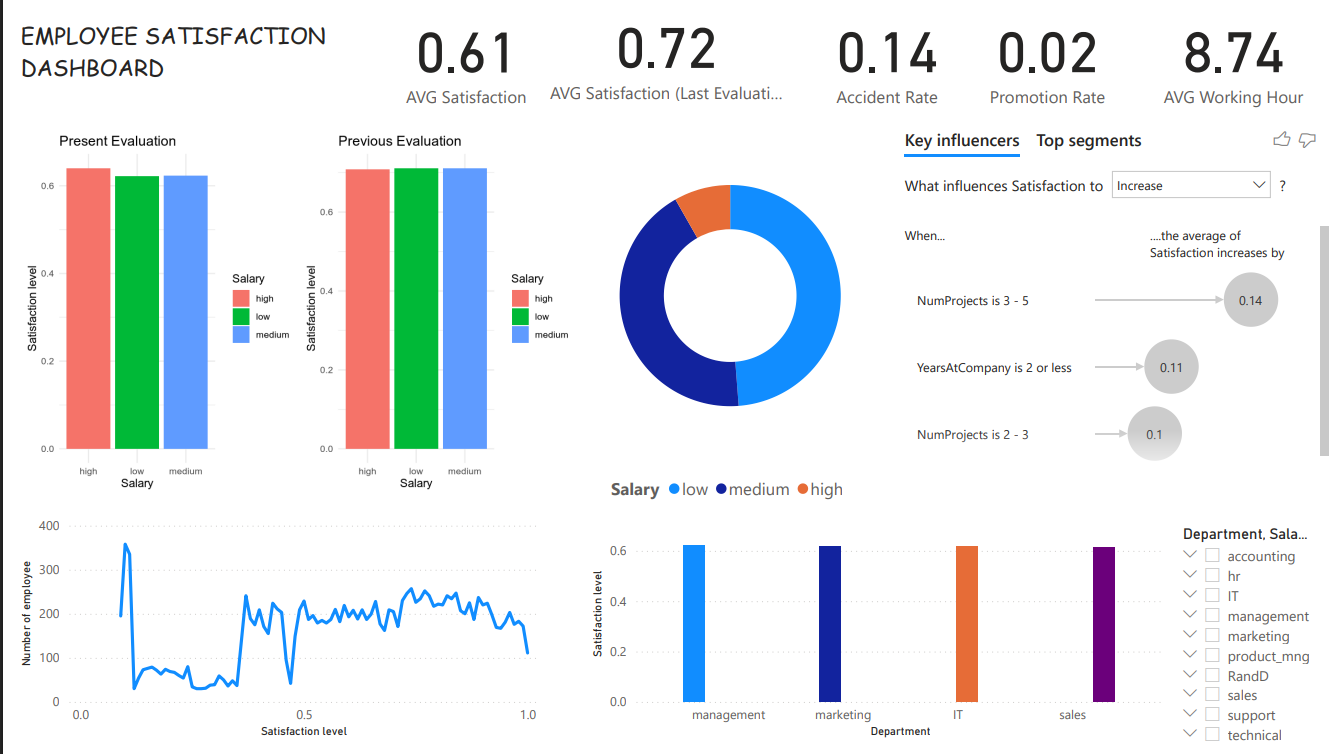

The dashboard page shown, as its layout file describes it:
{"tool":"powerbi","page":{"name":"Page 1","canvas":[1280,720],"ordinal":0},"visuals":[{"type":"keyDriversVisual","fields":{"ExplainBy":["employee_satisfaction_cleaned.Department","Sum(employee_satisfaction_cleaned.PromotedLast5Yrs)","employee_satisfaction_cleaned.Salary","Sum(employee_satisfaction_cleaned.YearsAtCompany)","Sum(employee_satisfaction_cleaned.NumProjects)"],"Target":["employee_satisfaction_cleaned.Satisfaction"]},"box":[846.1,111.4,426.7,378.3],"z":0},{"type":"card","fields":{"Values":["employee_satisfaction_cleaned.Avg Satisfaction"]},"box":[369.5,0,148.1,111.4],"z":1000},{"type":"card","fields":{"Values":["employee_satisfaction_cleaned.AVG Evaluation"]},"box":[517.6,0,234.6,102.6],"z":2000},{"type":"card","fields":{"Values":["employee_satisfaction_cleaned.Accident Rate"]},"box":[769.3,0,154.5,110.9],"z":3000},{"type":"card","fields":{"Values":["employee_satisfaction_cleaned.Promotion Rate"]},"box":[923.9,0,151.2,110.9],"z":4000},{"type":"card","fields":{"Values":["employee_satisfaction_cleaned.Avg Working Hr"]},"box":[1075.1,0,204.9,110.9],"z":5000},{"type":"textbox","box":[13.4,15.1,341,79],"z":6000},{"type":"scriptVisual","fields":{"Values":["employee_satisfaction_cleaned.Salary","employee_satisfaction_cleaned.Satisfaction","employee_satisfaction_cleaned.Evaluation"]},"box":[14.2,110.3,543.5,379.7],"z":7000},{"type":"slicer","fields":{"Values":["employee_satisfaction_cleaned.Department","employee_satisfaction_cleaned.Salary","employee_satisfaction_cleaned.YearsAtCompany"]},"box":[1115.9,498.6,156.9,221.4],"z":8000},{"type":"lineChart","fields":{"Y":["Count(employee_satisfaction_cleaned.Emp ID)"],"Category":["employee_satisfaction_cleaned.Satisfaction"]},"box":[13.2,489.8,504.4,221.4],"z":8001},{"type":"donutChart","fields":{"Y":["CountNonNull(employee_satisfaction_cleaned.Salary)"],"Category":["employee_satisfaction_cleaned.Salary"]},"box":[558.7,111.4,274.2,378.3],"z":8002},{"type":"clusteredColumnChart","fields":{"Category":["employee_satisfaction_cleaned.Department"],"Y":["Avg(employee_satisfaction_cleaned.Satisfaction)"],"Series":["employee_satisfaction_cleaned.Department"]},"box":[558.7,489.8,557.2,221.4],"z":8003}]}

Visuals, with their boxes in screenshot pixels (x1, y1, x2, y2), scaled from the page's 1280x720 canvas onto the 1338x754 screenshot:
keyDriversVisual - employee_satisfaction_cleaned.Department x Sum(employee_satisfaction_cleaned.PromotedLast5Yrs): <region>884, 117, 1330, 513</region>
card - employee_satisfaction_cleaned.Avg Satisfaction: <region>386, 0, 541, 117</region>
card - employee_satisfaction_cleaned.AVG Evaluation: <region>541, 0, 786, 107</region>
card - employee_satisfaction_cleaned.Accident Rate: <region>804, 0, 966, 116</region>
card - employee_satisfaction_cleaned.Promotion Rate: <region>966, 0, 1124, 116</region>
card - employee_satisfaction_cleaned.Avg Working Hr: <region>1124, 0, 1337, 116</region>
textbox: <region>14, 16, 370, 99</region>
scriptVisual - employee_satisfaction_cleaned.Salary x employee_satisfaction_cleaned.Satisfaction: <region>15, 116, 583, 513</region>
slicer - employee_satisfaction_cleaned.Department x employee_satisfaction_cleaned.Salary: <region>1166, 522, 1330, 753</region>
lineChart - Count(employee_satisfaction_cleaned.Emp ID) x employee_satisfaction_cleaned.Satisfaction: <region>14, 513, 541, 745</region>
donutChart - CountNonNull(employee_satisfaction_cleaned.Salary) x employee_satisfaction_cleaned.Salary: <region>584, 117, 871, 513</region>
clusteredColumnChart - employee_satisfaction_cleaned.Department x Avg(employee_satisfaction_cleaned.Satisfaction): <region>584, 513, 1166, 745</region>
